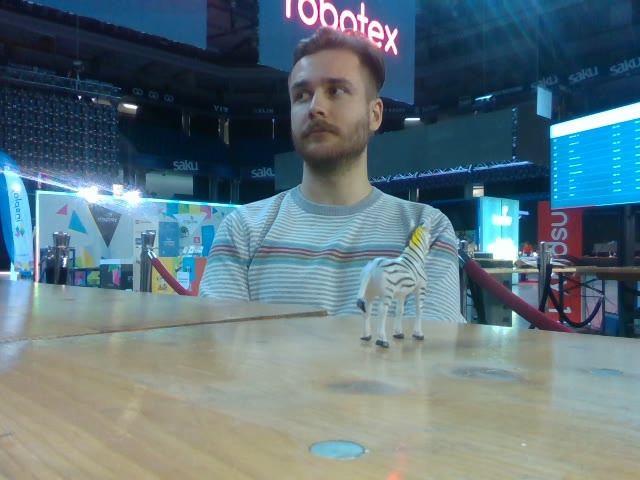toy: (359, 220, 430, 348)
